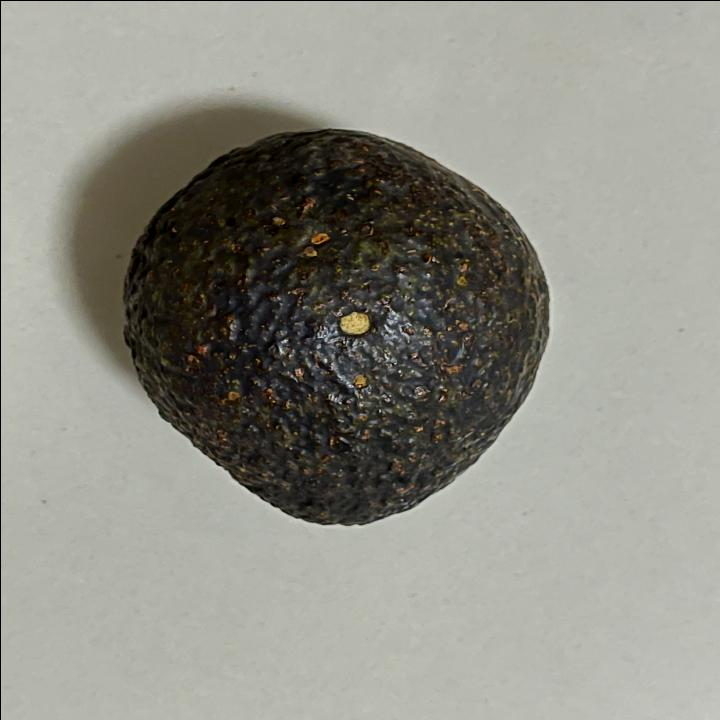Level2: (110, 122, 562, 536)
